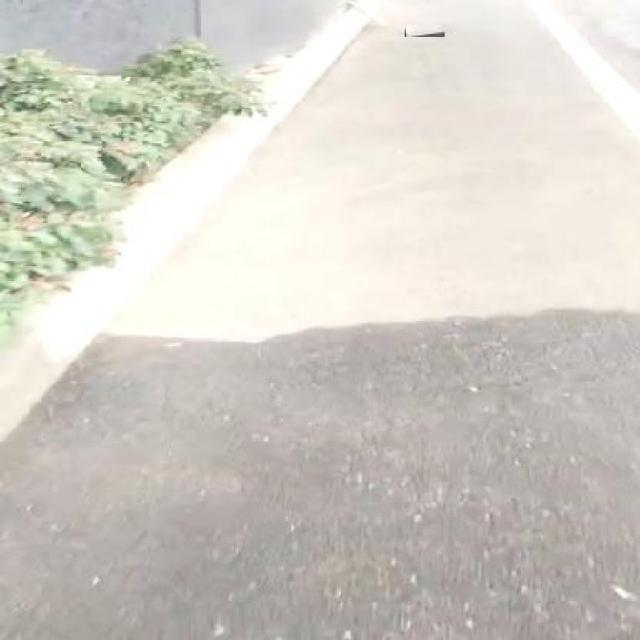Manhole: (404, 24, 444, 38)
